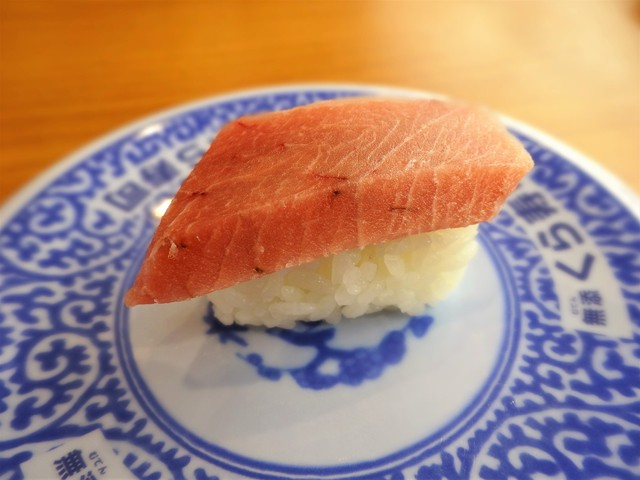medium_fatty_tuna: (123, 98, 536, 327)
